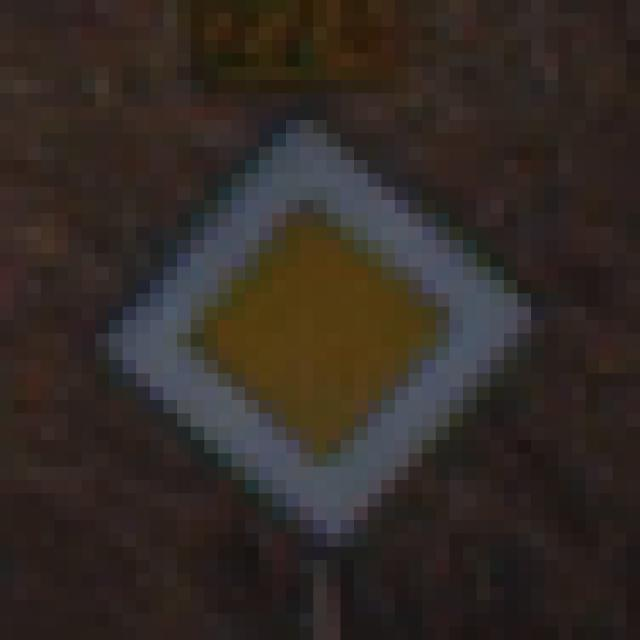Main Road: (69, 81, 573, 574)
